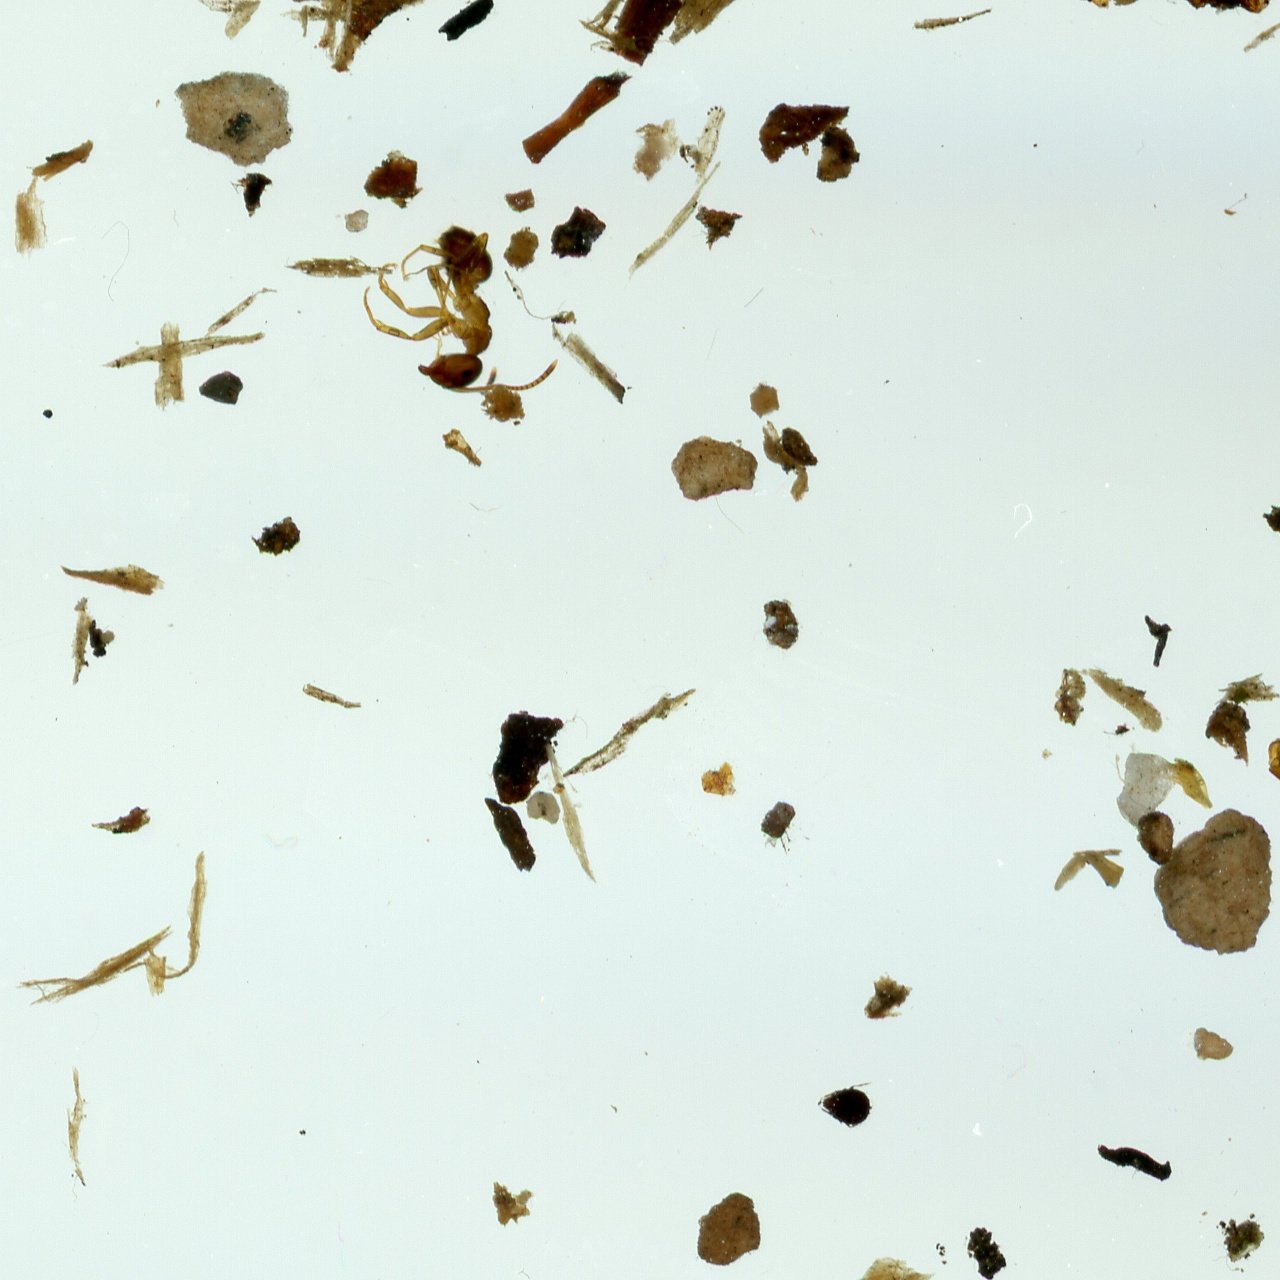arthropod: (360, 219, 561, 397), (816, 1078, 874, 1130)
